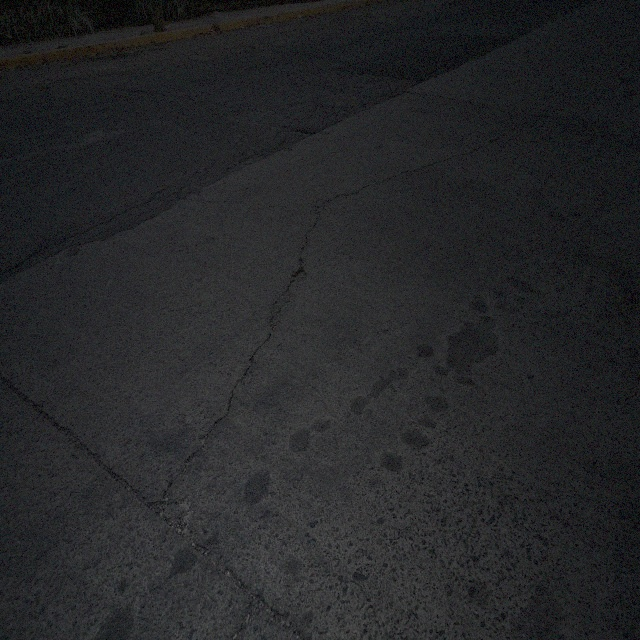pothole: (150, 482, 192, 536), (105, 86, 148, 100), (290, 259, 306, 287), (532, 112, 549, 124)
